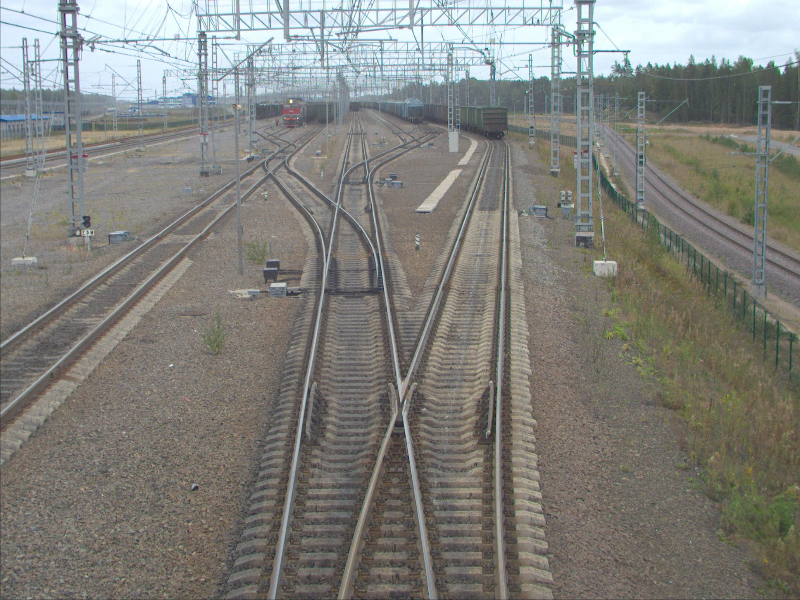right: (316, 196, 387, 291), (342, 159, 370, 182)
